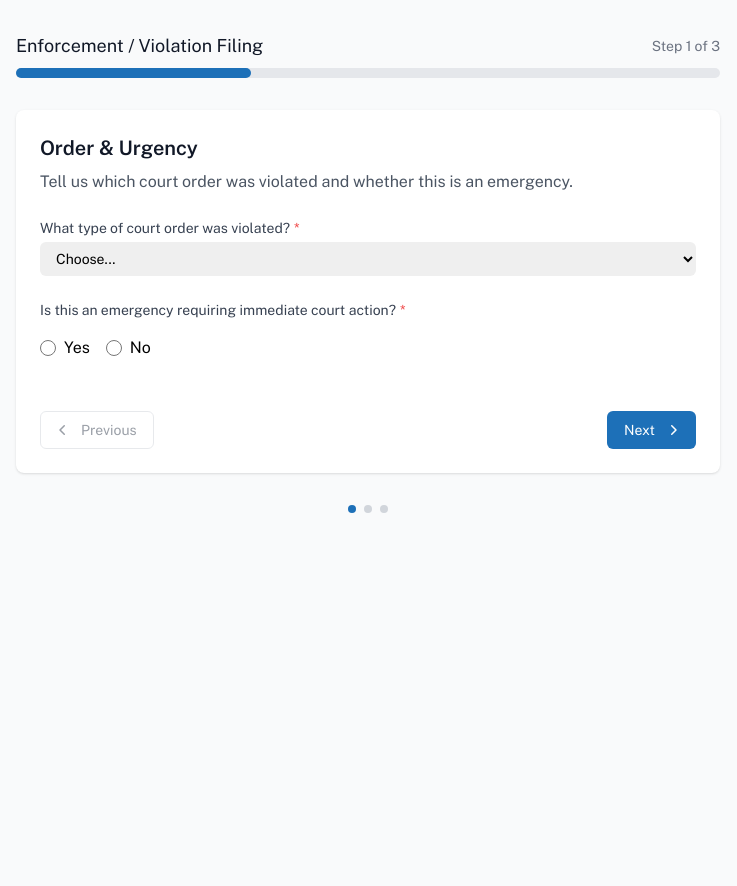
Scenario: ViolationIntake result screen › result screen shows courthouse routing
The image size is (737, 886).
Check: the heading "Order & Urgency" is shown, box x1=40 y1=136 x2=198 y2=160
What coordinates should you click on to do the following:
click the button "Next"
I would click on:
 (652, 430)
Its box is x1=607 y1=411 x2=696 y2=449.
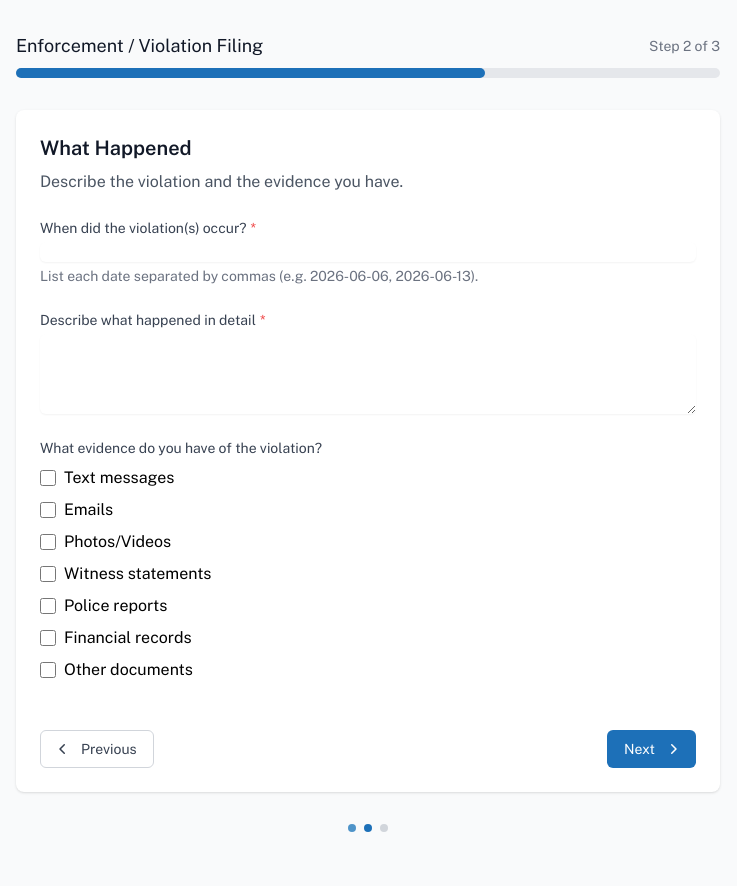
Check: the heading "What Happened" is shown, box x1=40 y1=136 x2=192 y2=160
What coordinates should you click on to do the following:
click the button "Next"
I would click on:
 (652, 749)
Its box is x1=607 y1=730 x2=696 y2=768.
(page scrolled)
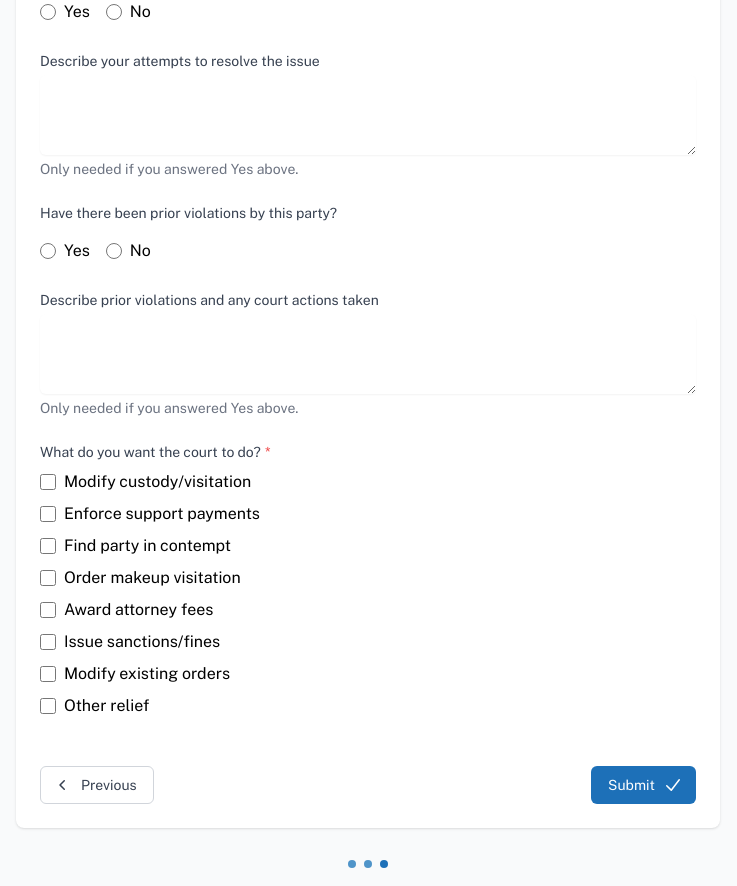
Check: the button "Submit" is shown
What coordinates should you click on to do the following:
click the button "Submit"
I would click on:
 (644, 785)
Its box is x1=591 y1=766 x2=696 y2=804.
(page scrolled)
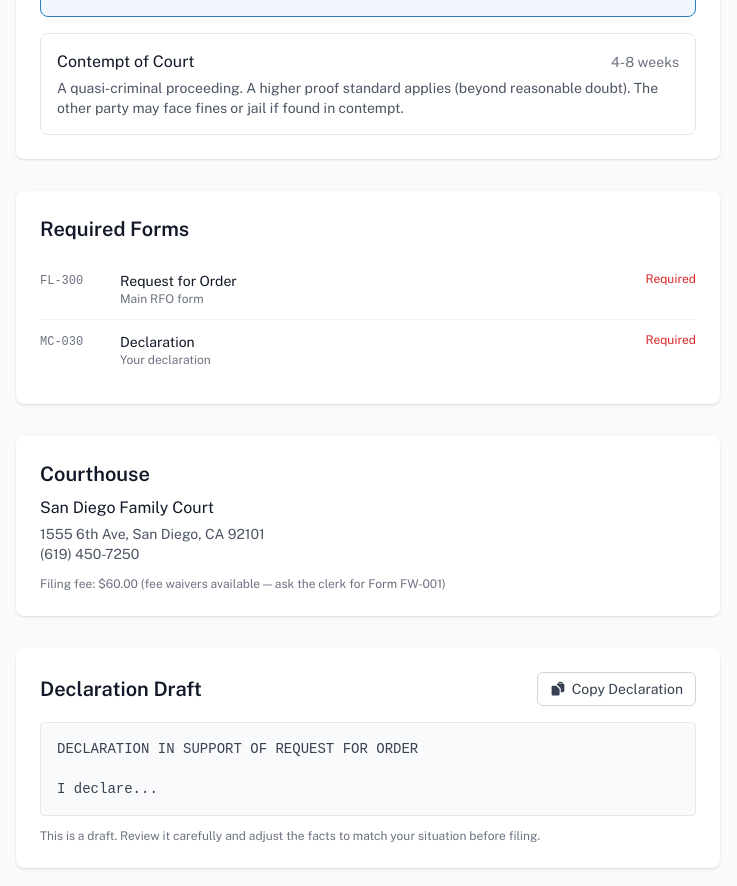
Check: the text "San Diego Family Court" is shown, box x1=40 y1=498 x2=214 y2=517
